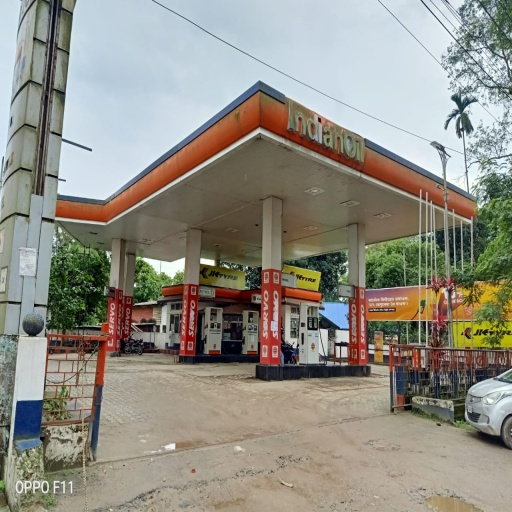roof: (52, 81, 480, 277)
